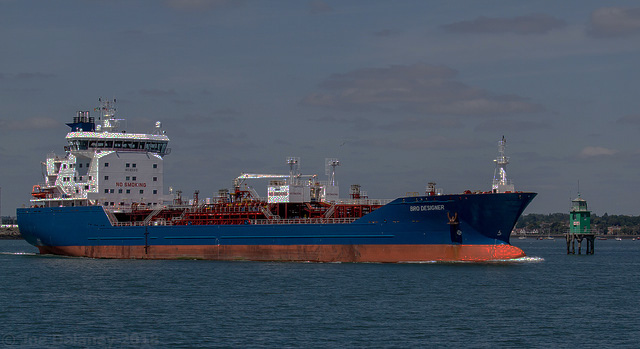tanker: (14, 101, 541, 263)
